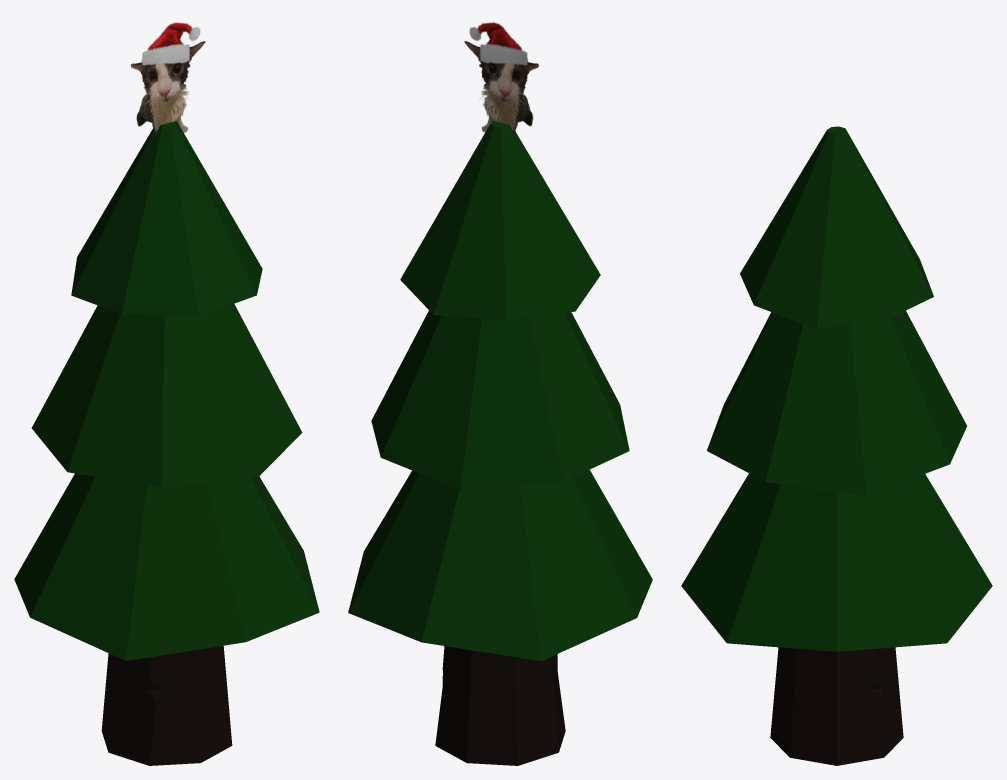
The model's file is bybsmaan123456.glb.
3 views of the same model, side by side, from view 1: azimuth 30°, elevation 25°; view 2: azimuth 150°, elevation 25°; view 3: azimuth 270°, elevation 25° (orthographic).
Parts seen in each view (by area): view 1: node_id11, node_id8, mesh_id40; view 2: node_id11, node_id8, mesh_id40; view 3: node_id11, node_id8.
Part boxes in pixels (x1,y1,x2,y2): node_id11: (14, 121, 319, 660); node_id8: (101, 645, 232, 765); mesh_id40: (130, 22, 205, 134); node_id11: (348, 121, 652, 661); node_id8: (435, 646, 565, 765); mesh_id40: (464, 22, 538, 134); node_id11: (681, 126, 992, 651); node_id8: (770, 647, 903, 765).
Size of the model in its own units: 0.2382 by 0.595 by 0.2382.
3 materials, 3 textured.
